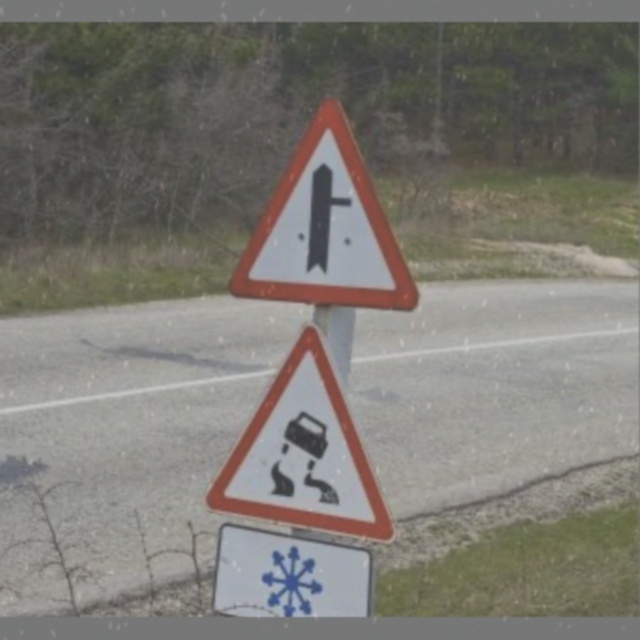Slippery_Road: (209, 323, 408, 526)
